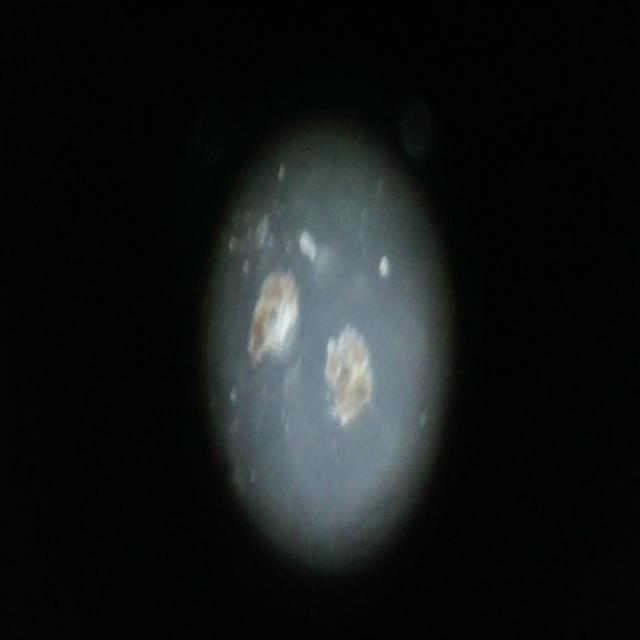alexandrium: (234, 269, 306, 366), (327, 322, 385, 419)
